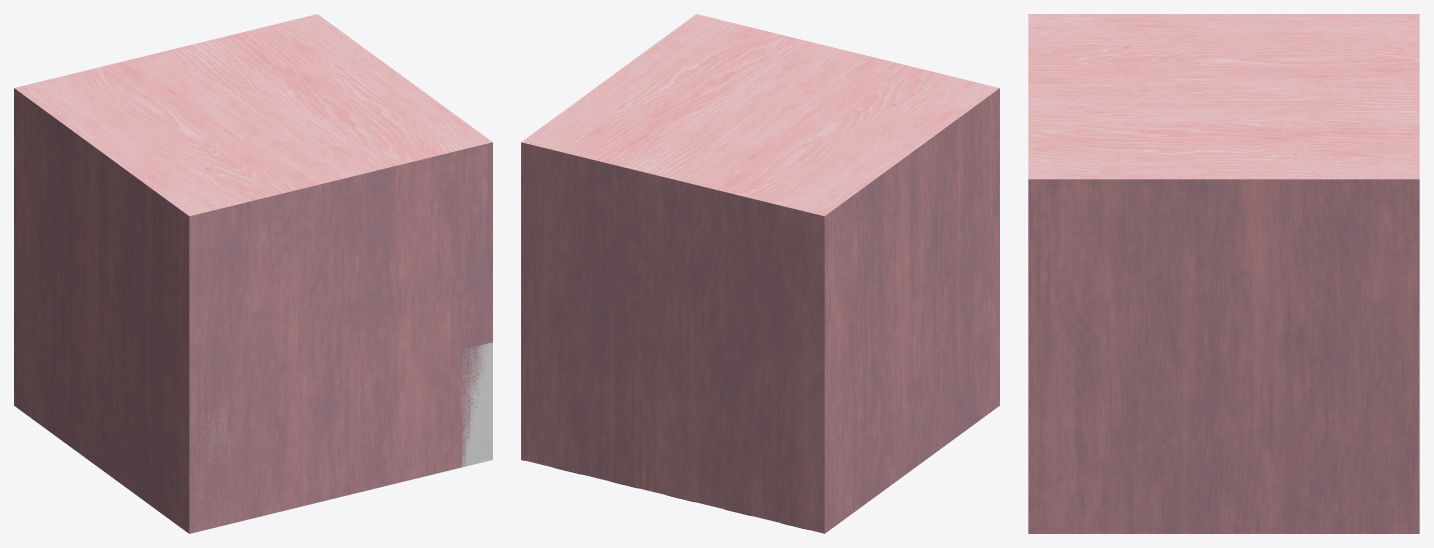
Rendered from room1.fbx.
3 views of the same model, side by side, from view 1: azimuth 30°, elevation 25°; view 2: azimuth 150°, elevation 25°; view 3: azimuth 270°, elevation 25° (orthographic). The views are drawn at different scales.
Parts seen in each view (by area): view 1: wallBack_geo, wallLeft_geo, ceiling_geo, counter_geo; view 2: wallFront_geo, wallLeft_geo, ceiling_geo; view 3: wallRight_geo, ceiling_geo.
Boxes of the visible parts, x1=… form: wallBack_geo: x1=189, y1=142, x2=492, y2=533; wallLeft_geo: x1=14, y1=88, x2=189, y2=533; ceiling_geo: x1=14, y1=14, x2=492, y2=216; counter_geo: x1=190, y1=342, x2=492, y2=531; wallFront_geo: x1=521, y1=142, x2=824, y2=533; wallLeft_geo: x1=824, y1=88, x2=999, y2=533; ceiling_geo: x1=521, y1=14, x2=999, y2=216; wallRight_geo: x1=1028, y1=179, x2=1419, y2=533; ceiling_geo: x1=1028, y1=14, x2=1419, y2=179.
Size of the model in its own units: 118 by 118 by 118.
